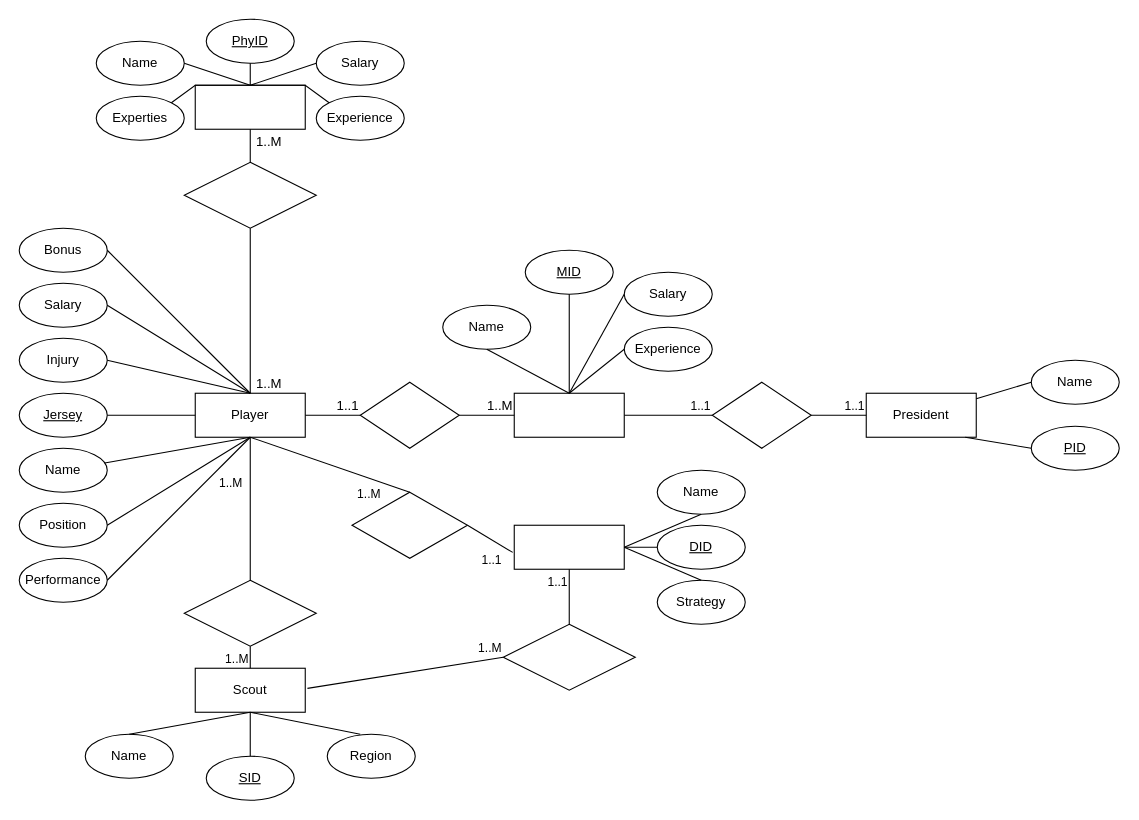
This 1139x820 diagram has some shape labels left out. The shapes that lost their labels are listed below. From the top down, each one's centre as x and y in pixels, then its label:
point 249,106: Physiotherapist
point 249,194: Treats
point 409,414: Manages
point 568,414: Manager
point 761,414: Supervise
point 409,524: Improve
point 568,546: Director
point 249,612: Tracks
point 568,656: Recommends
